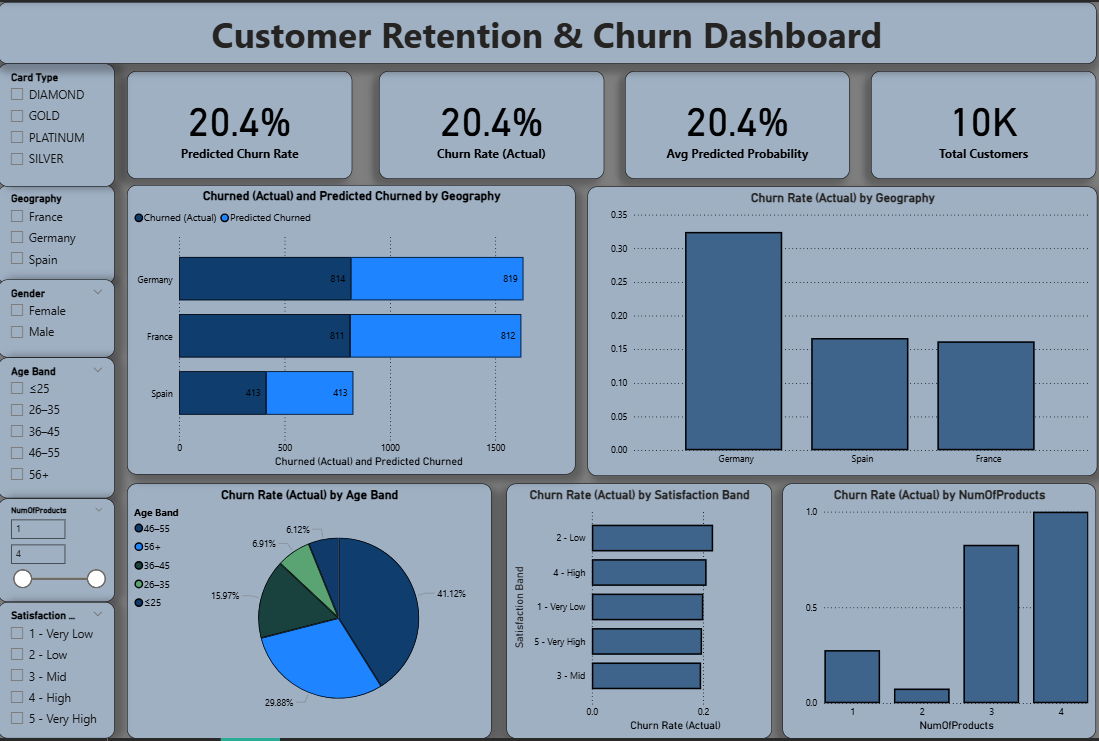

Layout of this report page (visuals, bound fields, positions):
{"tool":"powerbi","page":{"name":"Page 1","canvas":[1500,1000],"ordinal":0},"visuals":[{"type":"card","fields":{"Values":["bank_churn_predictions.Churn Rate (Actual)"]},"box":[517.7,93.8,305.7,146.7],"z":0},{"type":"card","fields":{"Values":["bank_churn_predictions.Predicted Churn Rate"]},"box":[175.3,93.8,305.7,146.7],"z":1000},{"type":"card","fields":{"Values":["bank_churn_predictions.Avg Predicted Probability"]},"box":[851.9,93.8,305,146.7],"z":2000},{"type":"card","title":"Total Customers","fields":{"Values":["bank_churn_predictions.Total Customers"]},"box":[1186.2,93.8,305.7,146.7],"z":3000},{"type":"clusteredColumnChart","fields":{"Category":["bank_churn_predictions.Geography"],"Y":["bank_churn_predictions.Churn Rate (Actual)"]},"box":[801,250.7,692.9,393.4],"z":4000},{"type":"pieChart","fields":{"Category":["bank_churn_predictions.Age Band"],"Y":["bank_churn_predictions.Churn Rate (Actual)"]},"box":[175.3,654.2,495.3,346.5],"z":5000},{"type":"columnChart","fields":{"Y":["bank_churn_predictions.Churn Rate (Actual)"],"Category":["bank_churn_predictions.NumOfProducts"]},"box":[1065.9,654.2,426,346.5],"z":6000},{"type":"clusteredBarChart","fields":{"Category":["bank_churn_predictions.Satisfaction Band"],"Y":["bank_churn_predictions.Churn Rate (Actual)"]},"box":[690.9,654.2,360.7,346.5],"z":7000},{"type":"barChart","fields":{"Category":["bank_churn_predictions.Geography"],"Y":["bank_churn_predictions.Churned (Actual)","bank_churn_predictions.Predicted Churned"]},"box":[175.3,248.6,609.4,393.4],"z":8000},{"type":"slicer","fields":{"Values":["bank_churn_predictions.Geography"]},"box":[0,248.6,159,134.5],"z":9000},{"type":"slicer","fields":{"Values":["bank_churn_predictions.Gender"]},"box":[0,377,159,106],"z":10000},{"type":"slicer","fields":{"Values":["bank_churn_predictions.Age Band"]},"box":[0,483,159,191.6],"z":11000},{"type":"slicer","fields":{"Values":["bank_churn_predictions.NumOfProducts"]},"box":[0,674.6,159,140.6],"z":12000},{"type":"slicer","fields":{"Values":["bank_churn_predictions.Satisfaction Band"]},"box":[0,815.2,159,185.5],"z":13000},{"type":"slicer","fields":{"Values":["bank_churn_predictions.Card Type"]},"box":[0,83.6,159,167.1],"z":14000},{"type":"textbox","box":[0,0,1492.6,84.2],"z":15000}]}

Visuals, with their boxes in screenshot pixels (x1, y1, x2, y2), scaled from the page's 1500x1000 canvas onto the 1099x741 screenshot:
card - bank_churn_predictions.Churn Rate (Actual): <bbox>379, 70, 603, 178</bbox>
card - bank_churn_predictions.Predicted Churn Rate: <bbox>128, 70, 352, 178</bbox>
card - bank_churn_predictions.Avg Predicted Probability: <bbox>624, 70, 848, 178</bbox>
"Total Customers" card: <bbox>869, 70, 1093, 178</bbox>
clusteredColumnChart - bank_churn_predictions.Geography x bank_churn_predictions.Churn Rate (Actual): <bbox>587, 186, 1095, 477</bbox>
pieChart - bank_churn_predictions.Age Band x bank_churn_predictions.Churn Rate (Actual): <bbox>128, 485, 491, 740</bbox>
columnChart - bank_churn_predictions.Churn Rate (Actual) x bank_churn_predictions.NumOfProducts: <bbox>781, 485, 1093, 740</bbox>
clusteredBarChart - bank_churn_predictions.Satisfaction Band x bank_churn_predictions.Churn Rate (Actual): <bbox>506, 485, 770, 740</bbox>
barChart - bank_churn_predictions.Geography x bank_churn_predictions.Churned (Actual): <bbox>128, 184, 575, 476</bbox>
slicer - bank_churn_predictions.Geography: <bbox>0, 184, 116, 284</bbox>
slicer - bank_churn_predictions.Gender: <bbox>0, 279, 116, 358</bbox>
slicer - bank_churn_predictions.Age Band: <bbox>0, 358, 116, 500</bbox>
slicer - bank_churn_predictions.NumOfProducts: <bbox>0, 500, 116, 604</bbox>
slicer - bank_churn_predictions.Satisfaction Band: <bbox>0, 604, 116, 740</bbox>
slicer - bank_churn_predictions.Card Type: <bbox>0, 62, 116, 186</bbox>
textbox: <bbox>0, 0, 1094, 62</bbox>
